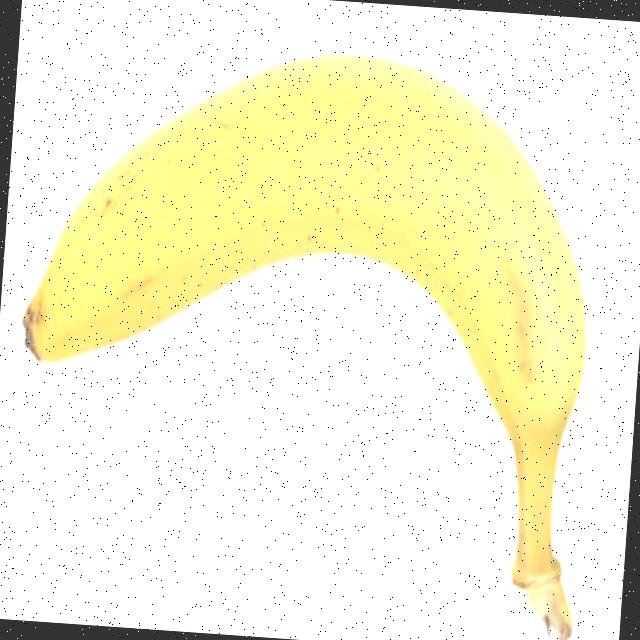banana: (2, 27, 613, 640)
